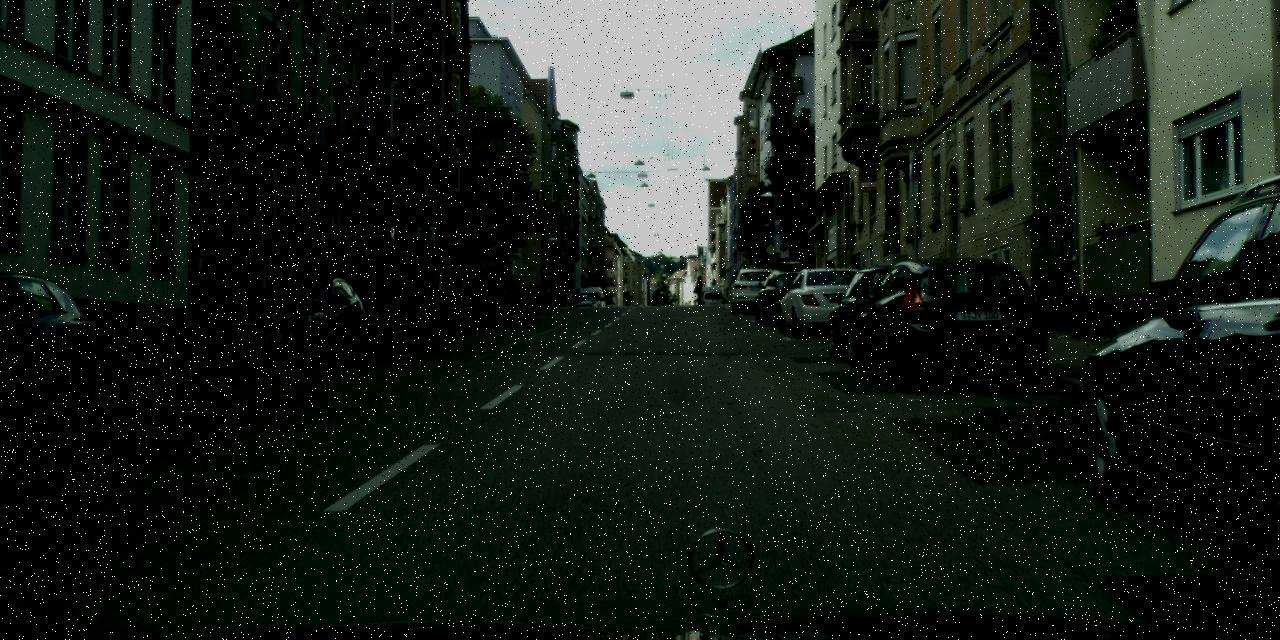ped: (843, 253, 868, 316), (820, 260, 842, 314), (693, 275, 705, 305), (622, 291, 630, 310)
